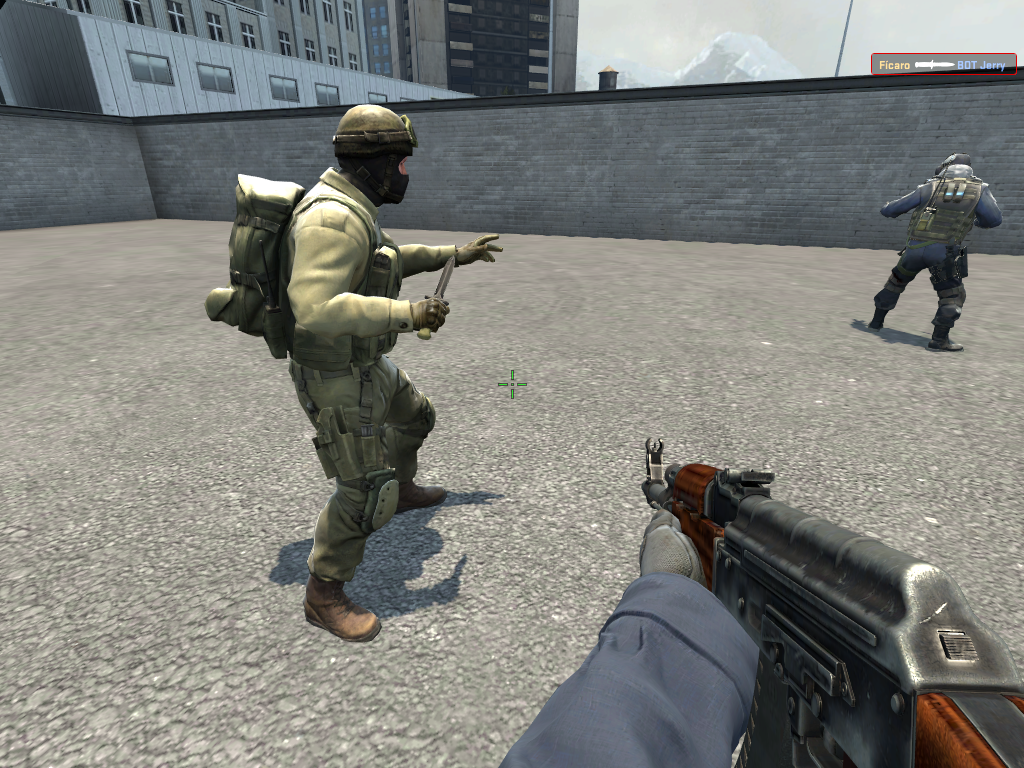ct head: (330, 102, 418, 208), (931, 151, 978, 185)
